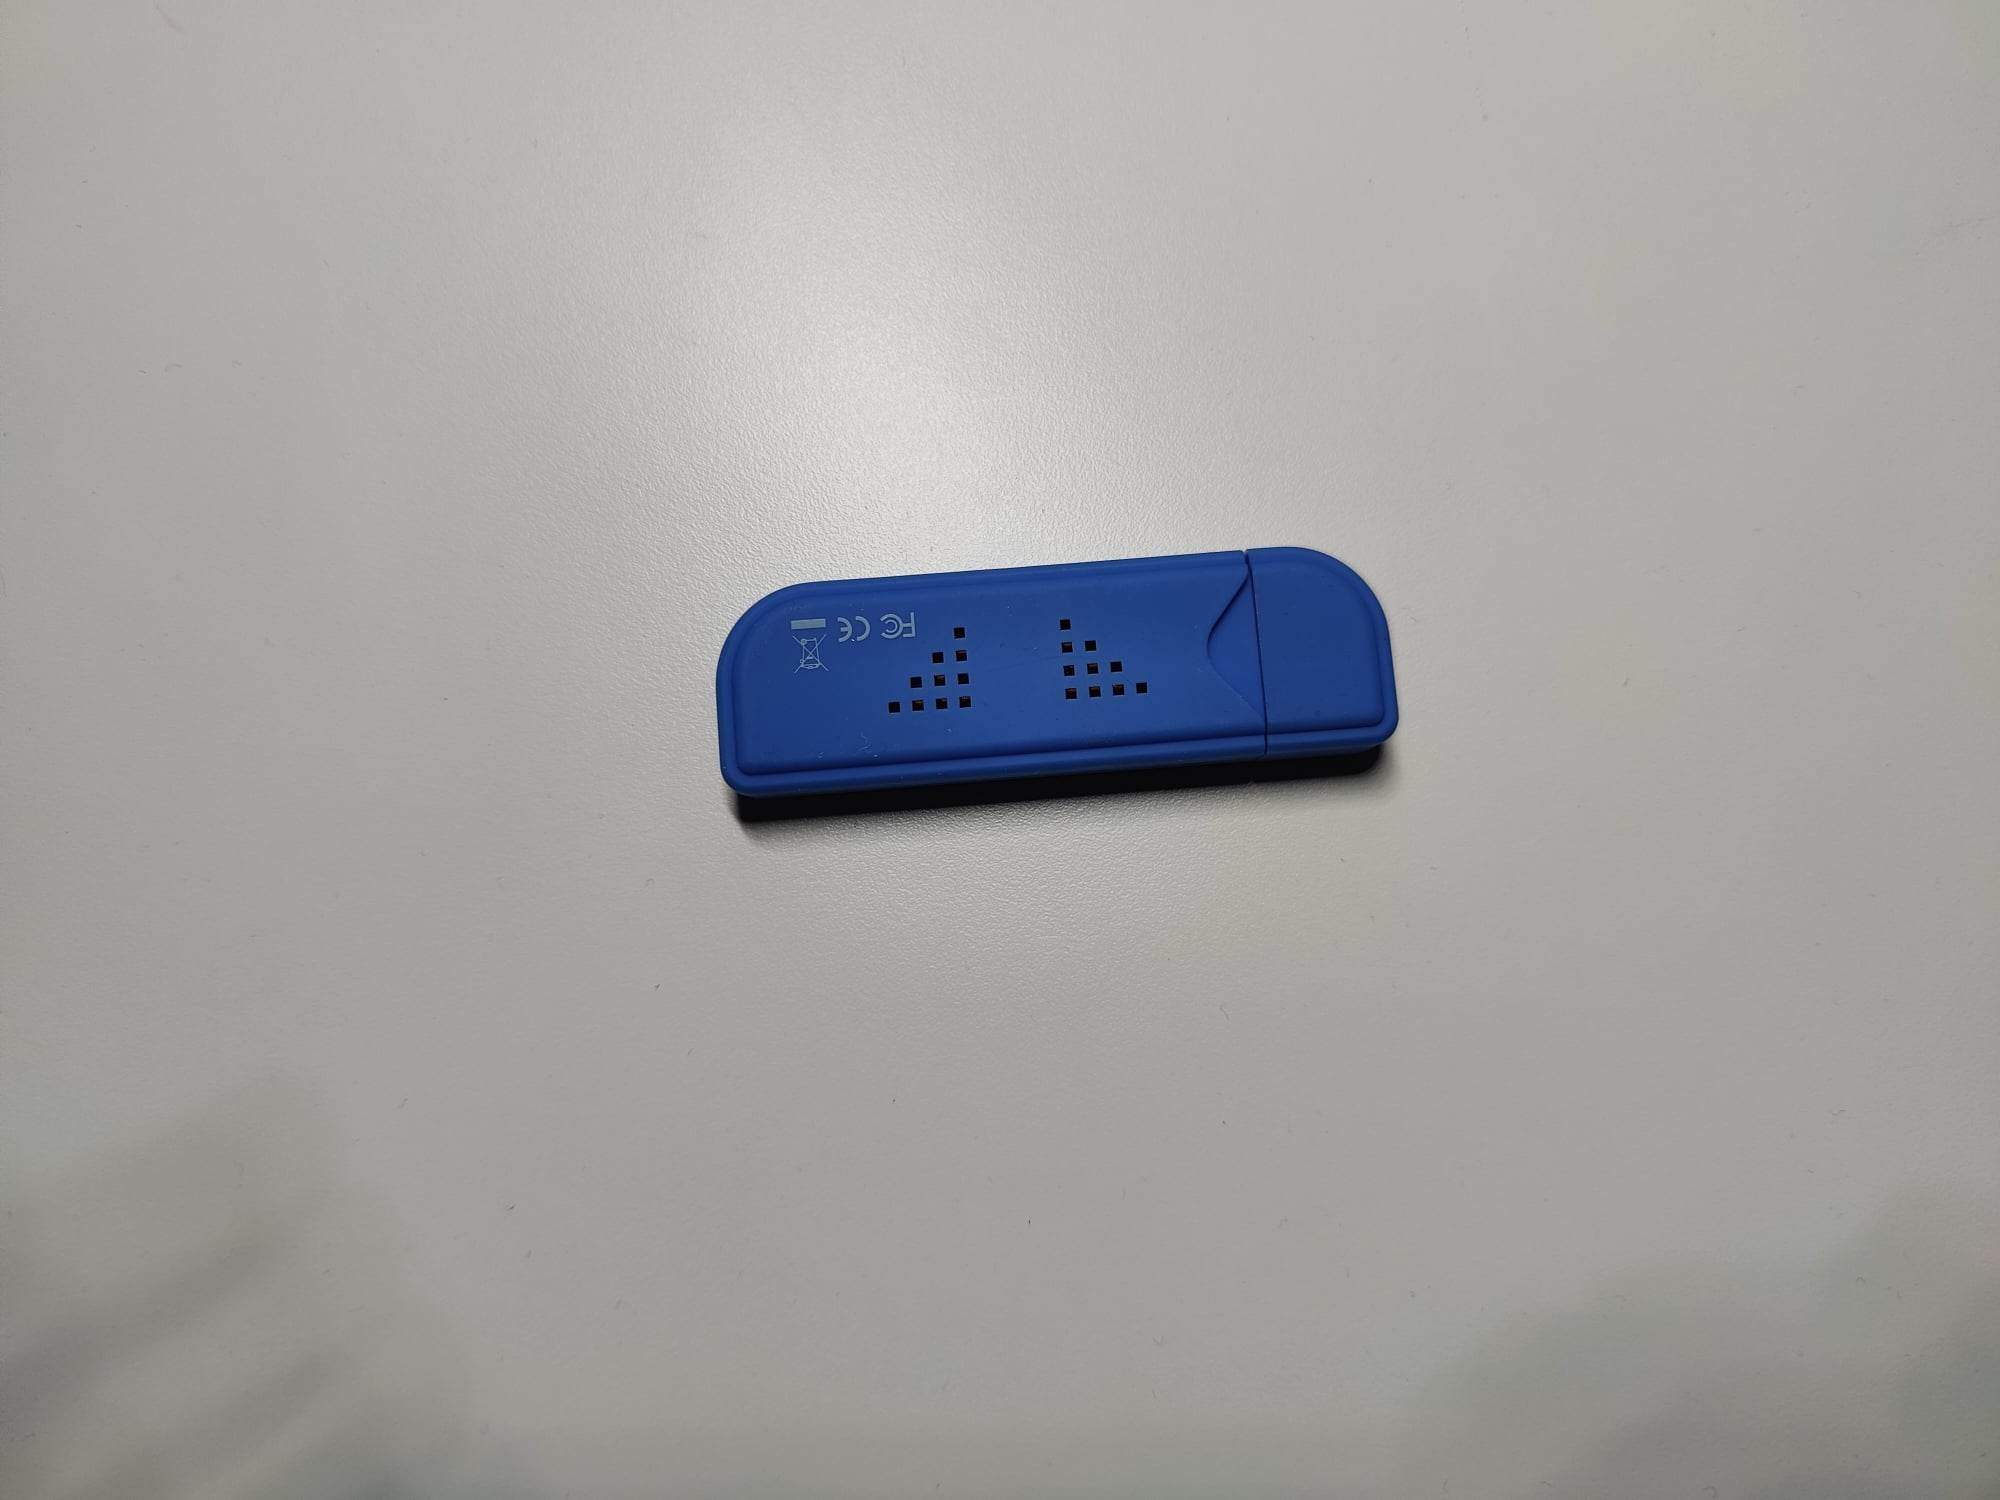DVB: (674, 534, 1431, 826)
